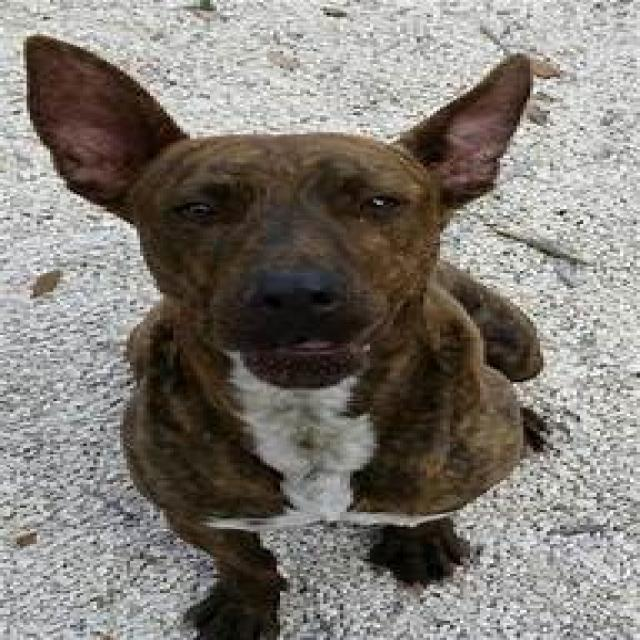dog: (30, 34, 547, 640)
